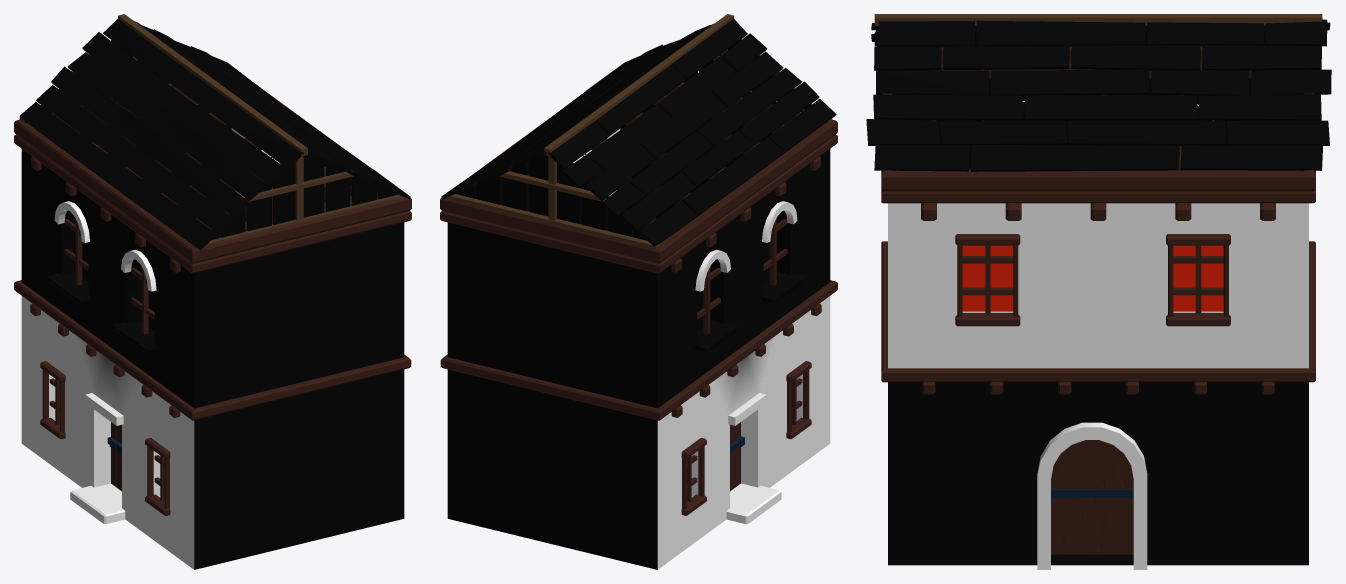
Rendered from civilian_house_37_e.FBX.
3 renders of one model, left to right at view 1: azimuth 30°, elevation 25°; view 2: azimuth 150°, elevation 25°; view 3: azimuth 270°, elevation 25°, orthographic. The views are drawn at different scales.
Visible parts, largest first — view 1: civilian_house_37_e; view 2: civilian_house_37_e; view 3: civilian_house_37_e.
Boxes of the visible parts, x1=… form: civilian_house_37_e: x1=14, y1=14, x2=411, y2=569; civilian_house_37_e: x1=440, y1=14, x2=837, y2=569; civilian_house_37_e: x1=866, y1=14, x2=1331, y2=569.
Size of the model in its own units: 568 by 893 by 773.
